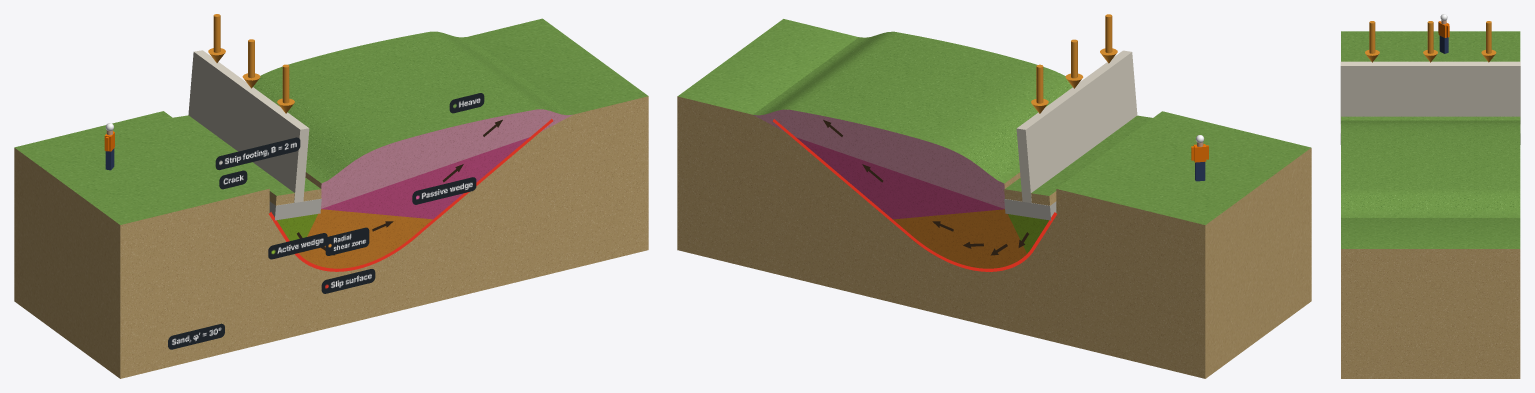
The model's file is talajtores-feliratok-en.glb.
The picture shows the model from 3 angles, left to right: view 1: azimuth 30°, elevation 25°; view 2: azimuth 150°, elevation 25°; view 3: azimuth 270°, elevation 25°; orthographic projection. The views are drawn at different scales.
Parts seen in each view (by area): view 1: All_talaj_cap, Takaras_top, All_talaj_top, All_talaj_side, Takaras_cap, Fal_side, Felirat (×6), Passziv_ek_cap, Radialis_zona_cap, Talajtores, Visszatoltes_top, Fal_top (+3 smaller); view 2: All_talaj_cap, Takaras_top, All_talaj_top, All_talaj_side, Takaras_cap, Fal_side, Passziv_ek_cap, Radialis_zona_cap, Talajtores, Visszatoltes_top, Fal_top, Aktiv_ek_cap (+3 smaller); view 3: All_talaj_side, Takaras_top, All_talaj_top, Fal_side, Talajtores, Fal_top, Visszatoltes_top, Munkas.
Part boxes in pixels (x1,y1,x2,y2): All_talaj_cap: (120,96,648,378); Takaras_top: (253,31,572,183); All_talaj_top: (14,18,648,224); All_talaj_side: (14,148,120,378); Takaras_cap: (321,109,572,208); Fal_side: (188,52,300,202); Felirat (×6): (168,137,476,349); Passziv_ek_cap: (321,137,529,219); Radialis_zona_cap: (299,209,432,268); Talajtores: (208,14,553,271); Visszatoltes_top: (173,115,294,195); Fal_top: (194,50,308,129); All_talaj_cap: (677,96,1205,378); Takaras_top: (753,31,1072,183); All_talaj_top: (678,19,1310,224); All_talaj_side: (1205,148,1311,378); Takaras_cap: (753,109,1004,208); Fal_side: (1025,52,1137,200); Passziv_ek_cap: (796,137,1004,219); Radialis_zona_cap: (893,209,1026,268); Talajtores: (773,14,1117,271); Visszatoltes_top: (1031,115,1152,195); Fal_top: (1017,50,1131,129); Aktiv_ek_cap: (1008,214,1048,253); All_talaj_side: (1341,249,1520,378); Takaras_top: (1341,120,1520,217); All_talaj_top: (1341,31,1520,248); Fal_side: (1340,66,1520,123); Talajtores: (1365,21,1496,62); Fal_top: (1340,61,1520,65); Visszatoltes_top: (1341,116,1520,120); Munkas: (1438,14,1449,53).
Bounding box in the file's own units: 0.92 × 0.4234 × 0.322.
26 materials, 15 textured.
